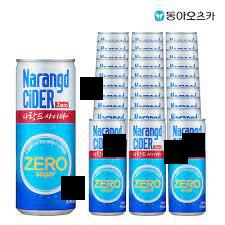narangdcider: (13, 58, 78, 217), (166, 117, 208, 218), (85, 118, 127, 215), (128, 118, 167, 218)
